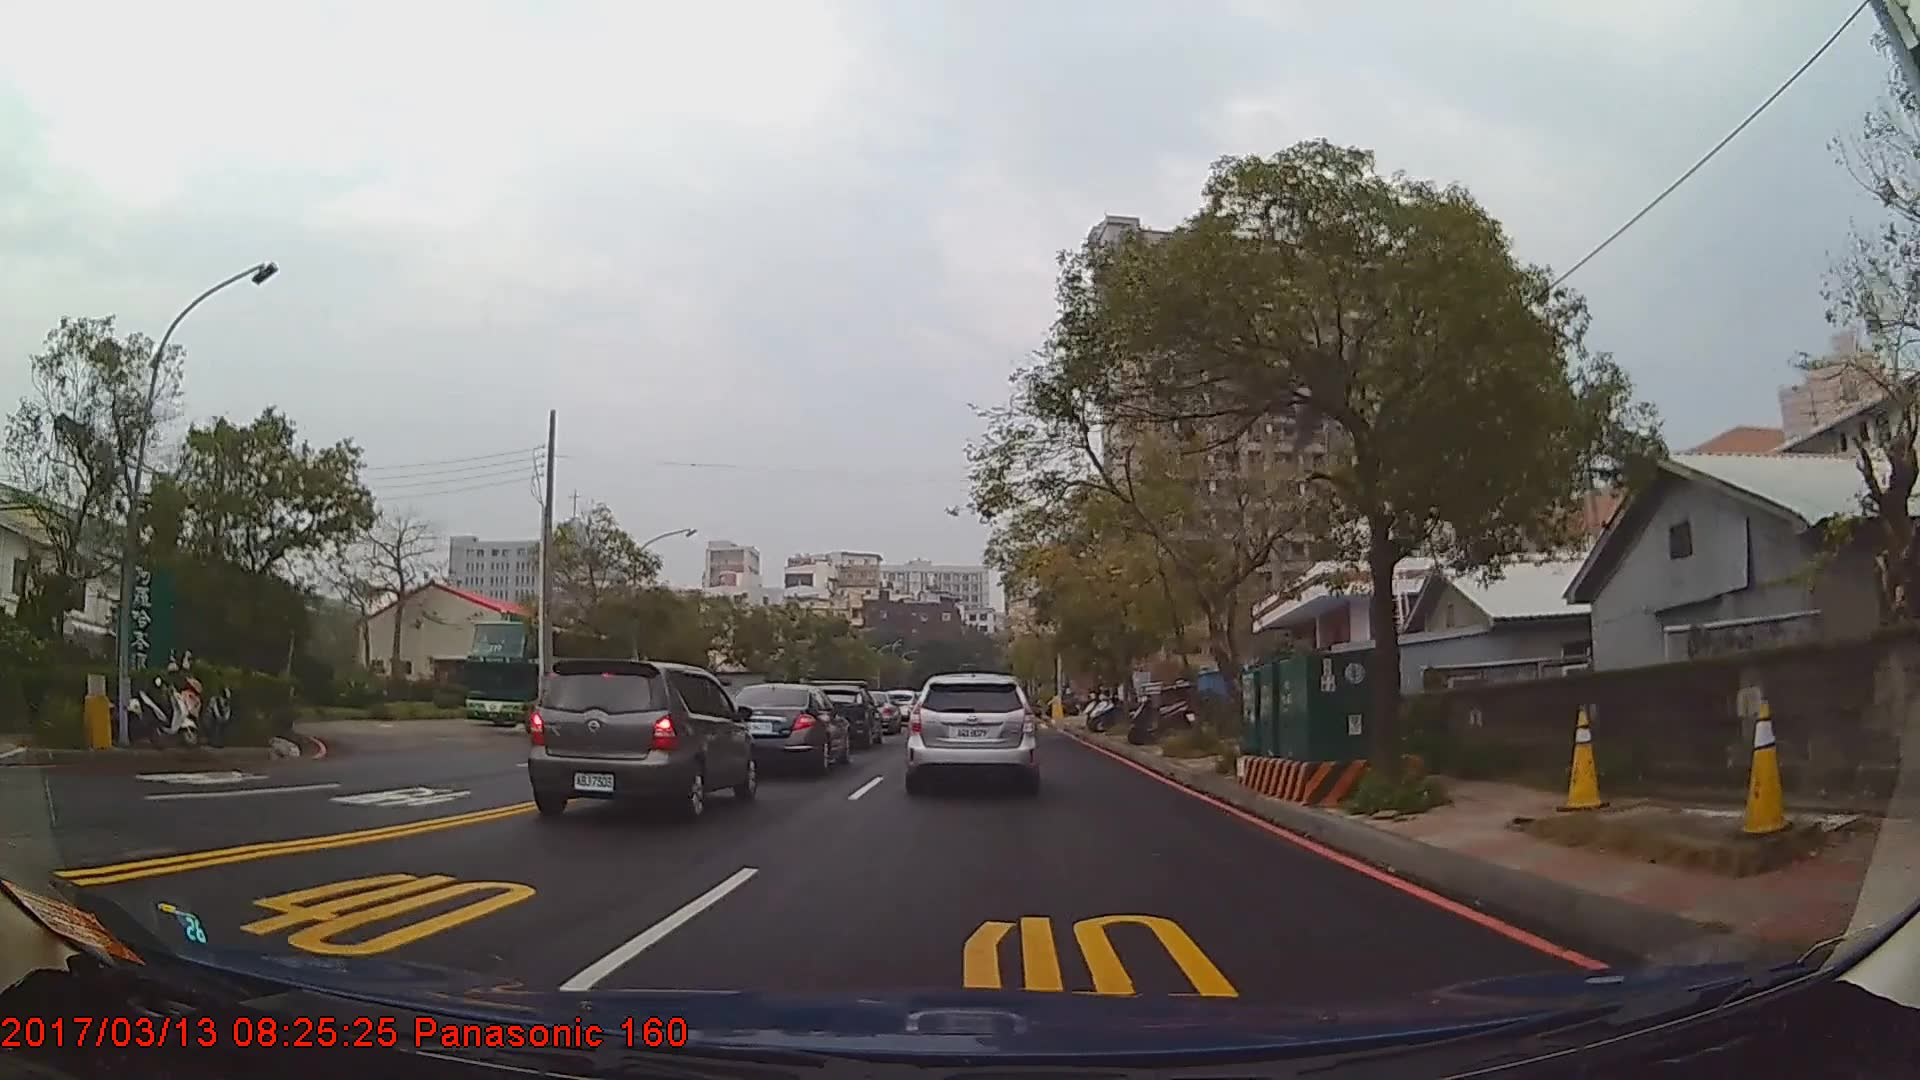vehicle: (524, 659, 757, 827), (463, 620, 633, 731), (905, 671, 1036, 790), (723, 680, 851, 775), (804, 684, 880, 749)
